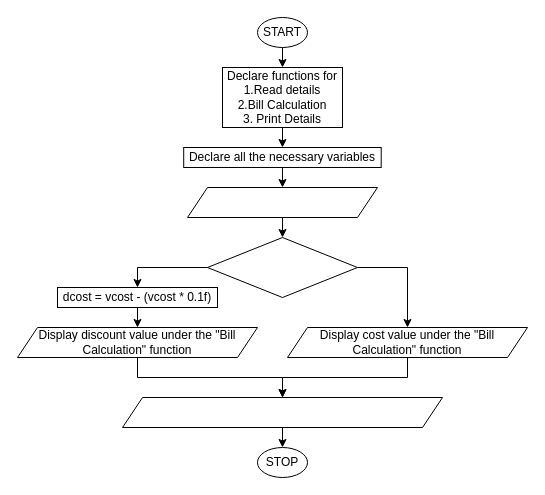
This 545x495 diagram has some shape labels left out. Each missing label, with the box of its shape:
dfenc == 0 || dfenc == 1: (206, 236, 358, 298)
Display the variable under the "Print Details" functions: (122, 396, 442, 428)
Read the variables under the "Read details" function: (186, 186, 378, 218)
